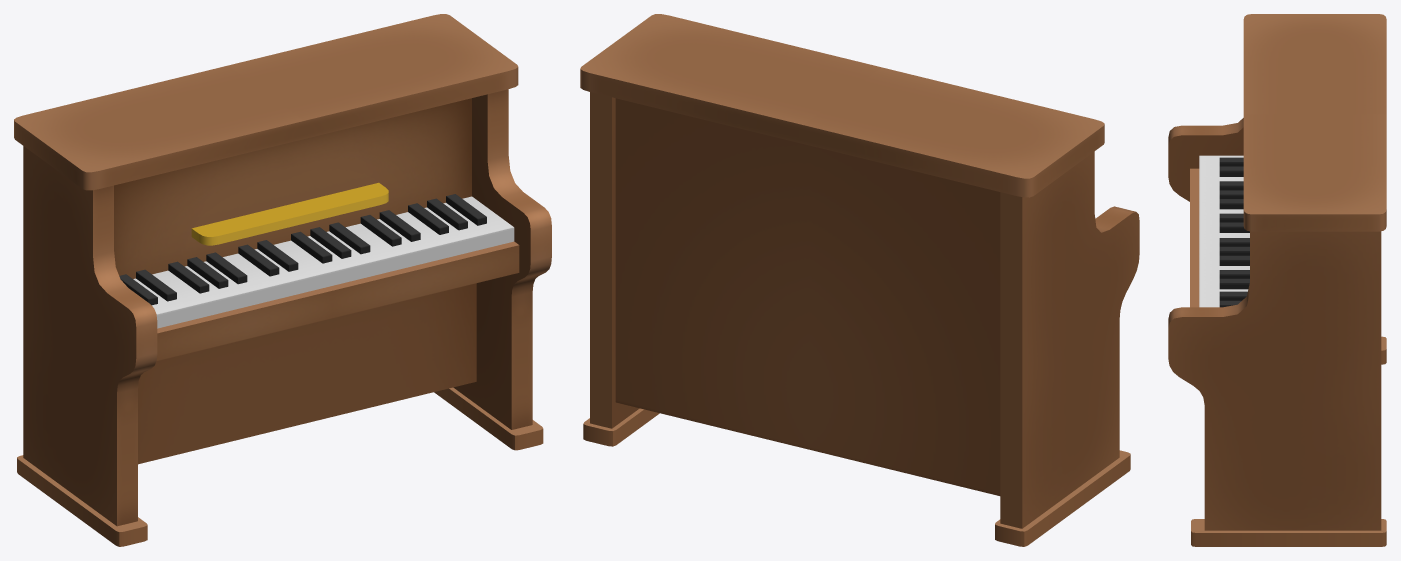
The model's file is piano.FBX.
3 renders of one model, left to right at view 1: azimuth 30°, elevation 25°; view 2: azimuth 150°, elevation 25°; view 3: azimuth 270°, elevation 25°, orthographic. The views are drawn at different scales.
Visible parts, largest first — view 1: piano; view 2: piano; view 3: piano.
Part boxes in pixels (x1,y1,x2,y2): piano: [14, 14, 551, 546]; piano: [580, 14, 1139, 546]; piano: [1168, 14, 1386, 546].
Bounding box in the file's own units: 49 × 38.14 × 22.58.
